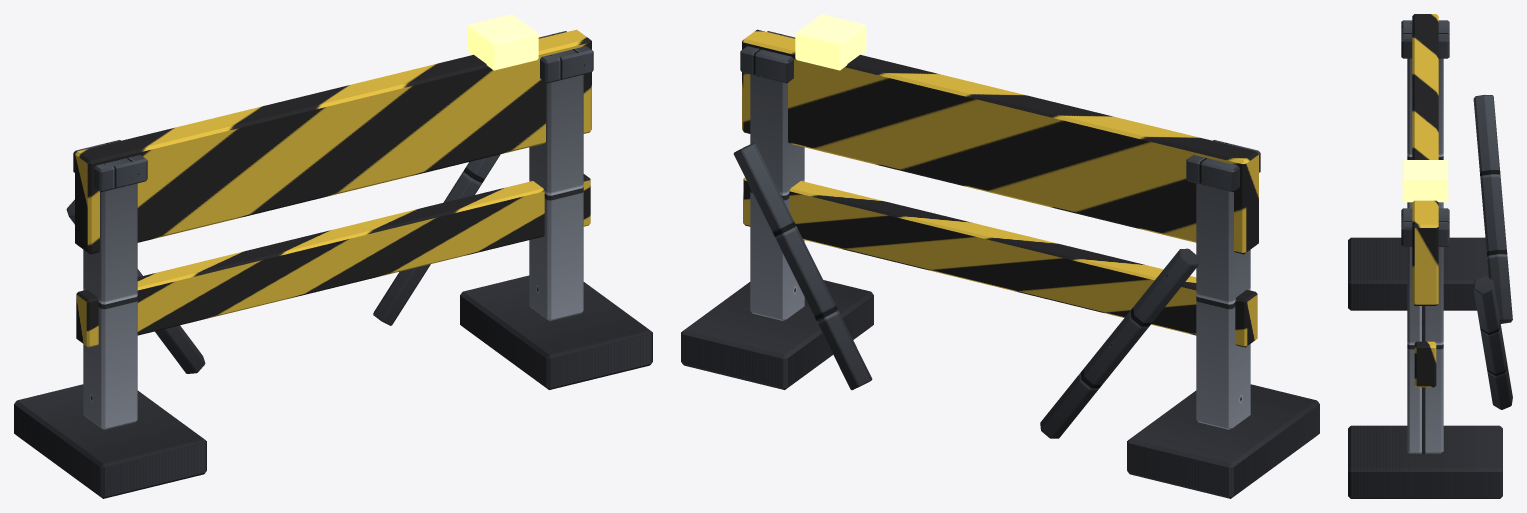
Rendered from PRP_Barricade_A_v1.fbx.
3 renders of one model, left to right at view 1: azimuth 30°, elevation 25°; view 2: azimuth 150°, elevation 25°; view 3: azimuth 270°, elevation 25°, orthographic. The views are drawn at different scales.
Visible parts, largest first — view 1: GEO_Barricade_A; view 2: GEO_Barricade_A; view 3: GEO_Barricade_A.
Boxes of the visible parts, bbox=[...] form: GEO_Barricade_A: bbox=[14, 14, 652, 498]; GEO_Barricade_A: bbox=[681, 14, 1319, 498]; GEO_Barricade_A: bbox=[1348, 14, 1512, 498].
Size of the model in its own units: 228 by 131 by 68.14.
